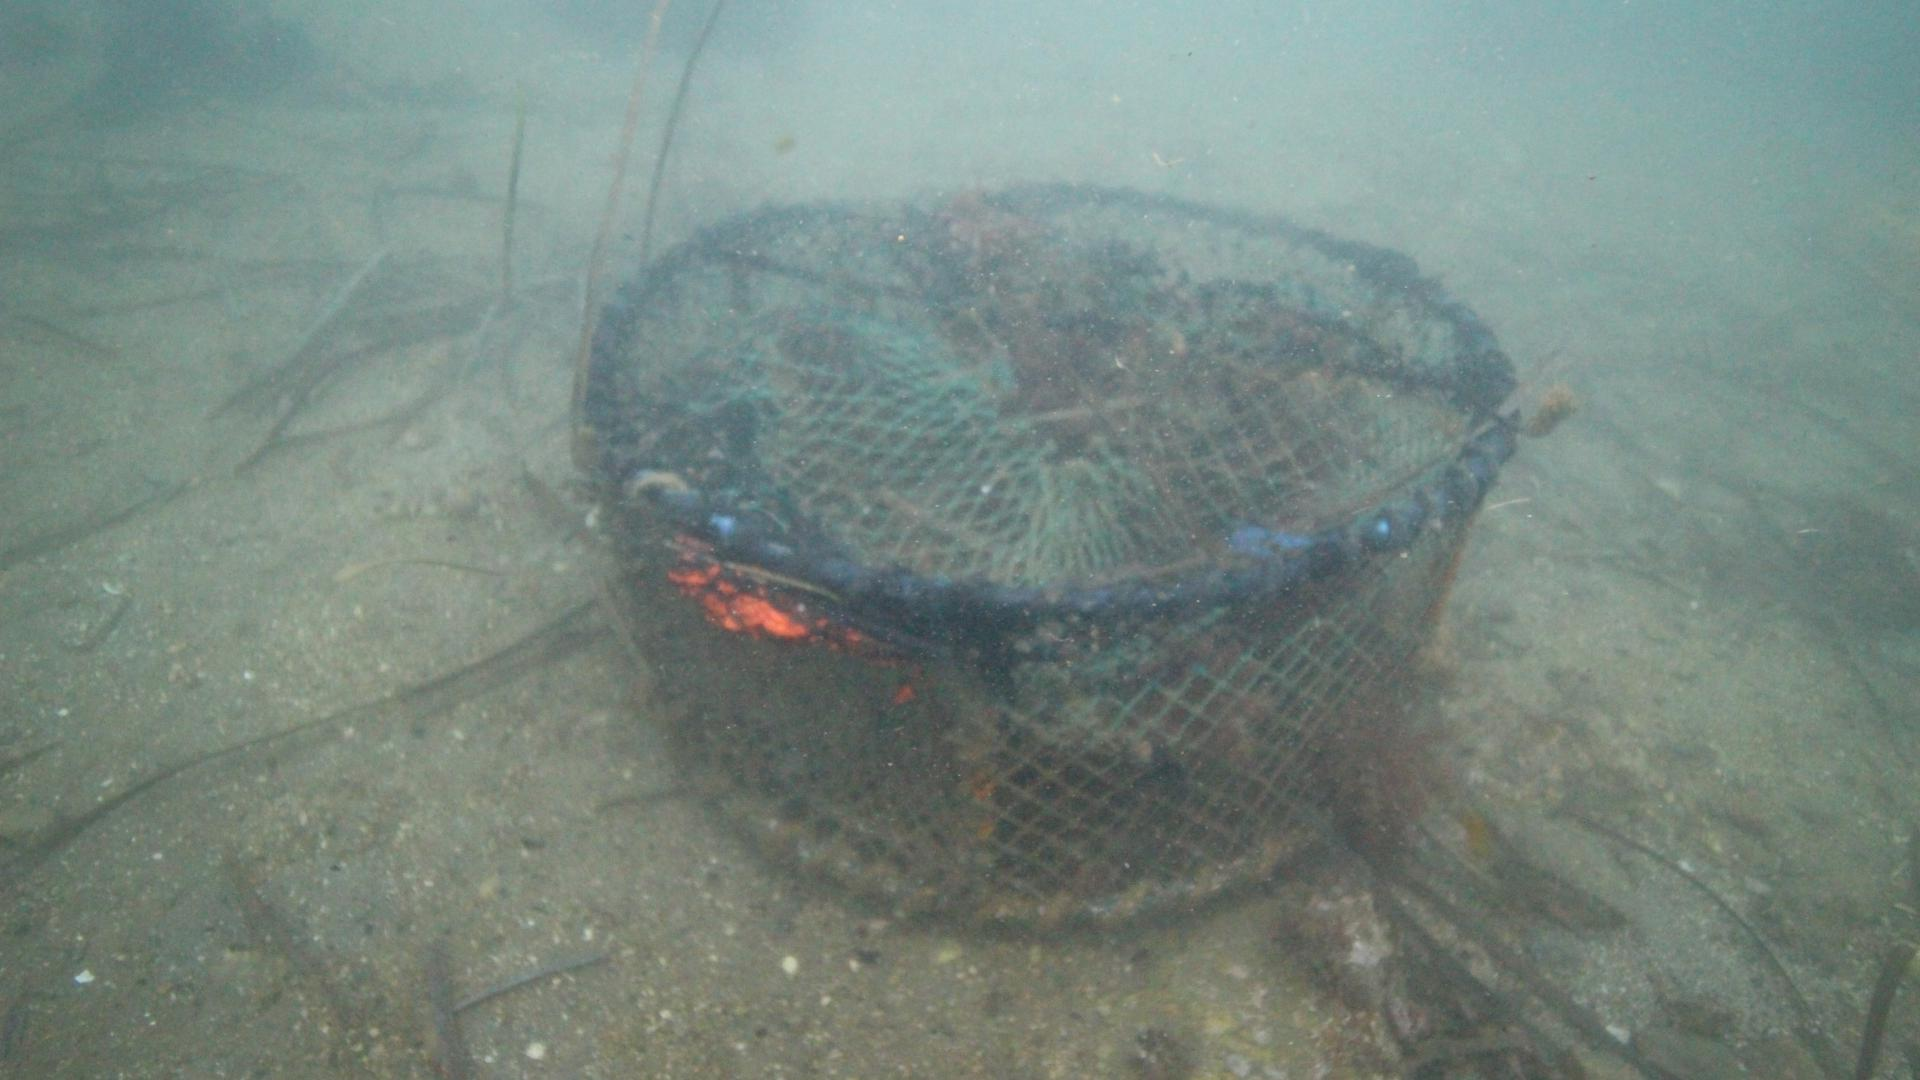circular fish trap: (584, 177, 1519, 930)
